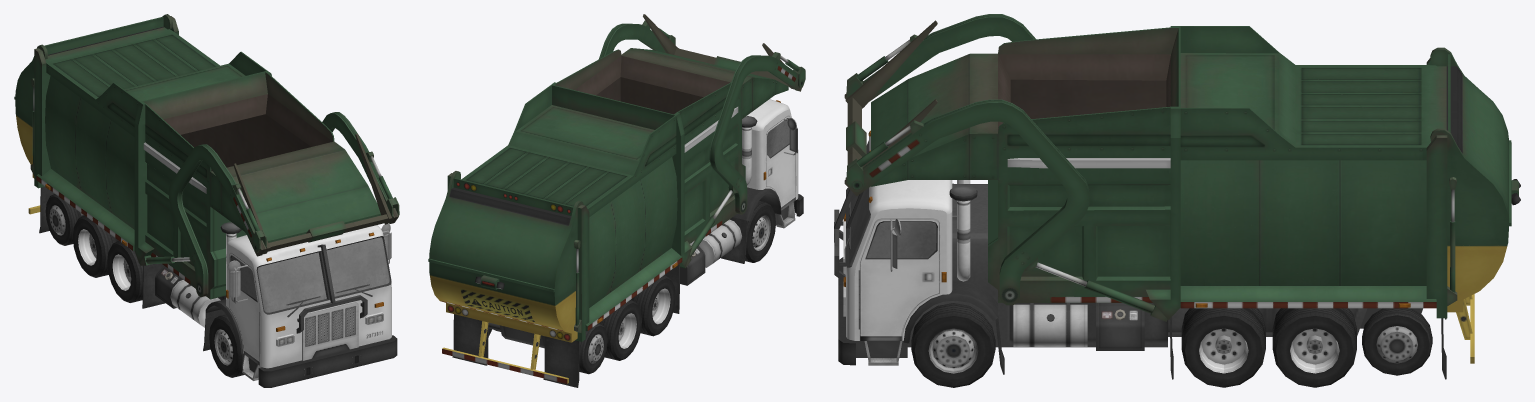
Rendered from GARB TR.fbx.
3 renders of one model, left to right at view 1: azimuth 30°, elevation 25°; view 2: azimuth 150°, elevation 25°; view 3: azimuth 270°, elevation 25°, orthographic. The views are drawn at different scales.
Parts seen in each view (by area): view 1: 123-_GarbageTruck01, 122-_GarbageTruck01Al, GARB_TR; view 2: 123-_GarbageTruck01, GARB_TR, 122-_GarbageTruck01Al; view 3: 123-_GarbageTruck01, GARB_TR, 122-_GarbageTruck01Al.
Boxes of the visible parts, x1=… form: 123-_GarbageTruck01: x1=14, y1=14, x2=399, y2=387; 122-_GarbageTruck01Al: x1=231, y1=237, x2=389, y2=312; GARB_TR: x1=73, y1=215, x2=244, y2=377; 123-_GarbageTruck01: x1=428, y1=14, x2=805, y2=387; GARB_TR: x1=495, y1=200, x2=775, y2=360; 122-_GarbageTruck01Al: x1=767, y1=119, x2=789, y2=157; 123-_GarbageTruck01: x1=834, y1=14, x2=1520, y2=379; GARB_TR: x1=911, y1=303, x2=1356, y2=387; 122-_GarbageTruck01Al: x1=849, y1=140, x2=936, y2=265.
Bounding box in the file's own units: 295 × 378 × 814.
